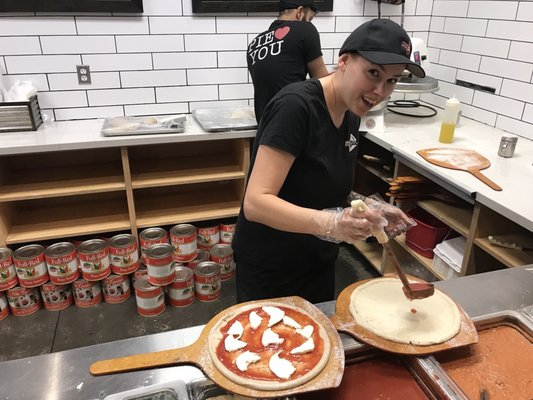pizza: (193, 262, 223, 302), (498, 135, 517, 158)
